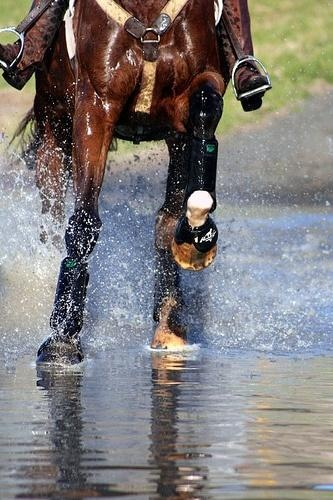horse: (1, 1, 272, 371)
